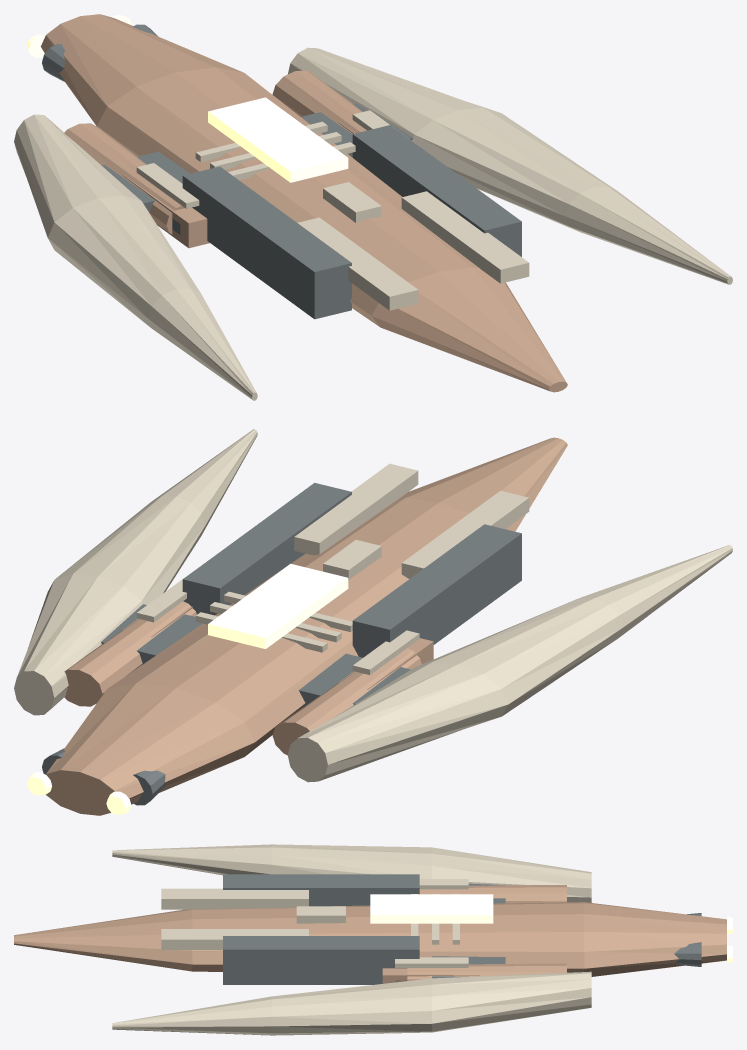
The picture shows the model from 3 angles, top to bottom: view 1: azimuth 30°, elevation 25°; view 2: azimuth 150°, elevation 25°; view 3: azimuth 270°, elevation 25°; orthographic projection. The views are drawn at different scales.
Bounding box in the file's own units: 7.75 × 1.26 × 13.45.
